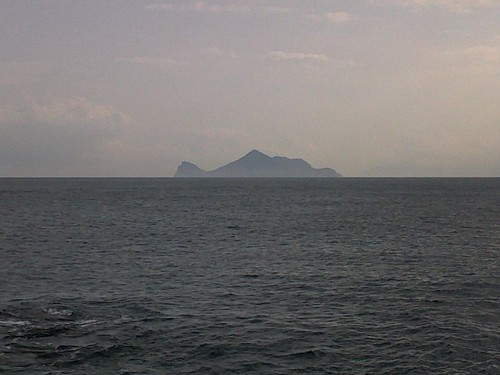turtleIslandLeft: (171, 148, 343, 178)
